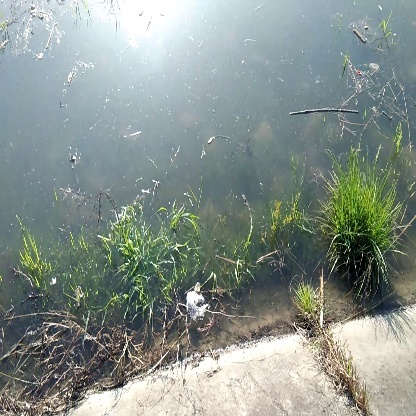branch: (288, 101, 365, 123)
plastic-bag: (179, 275, 216, 328)
